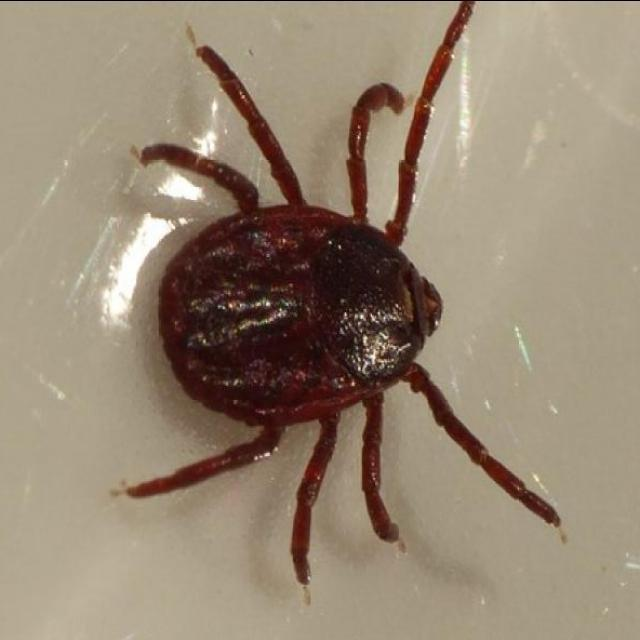Rhipicephalus Sanguineus-F: (122, 0, 559, 595)
